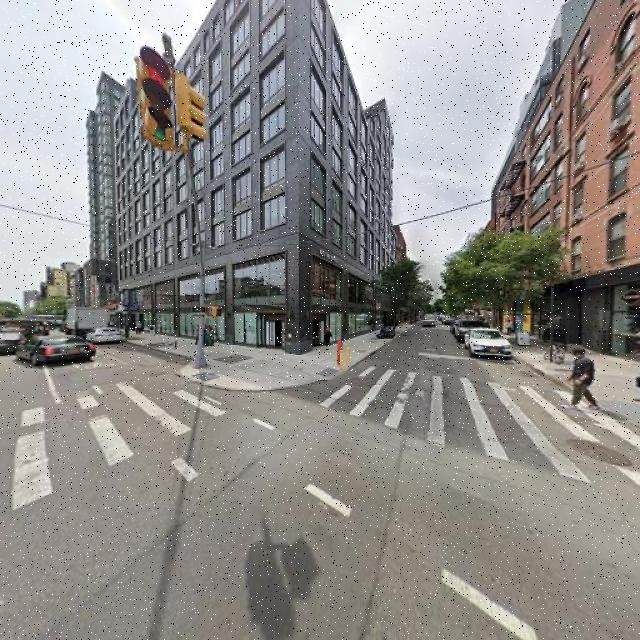Building: (157, 1, 383, 350), (575, 1, 640, 360)
